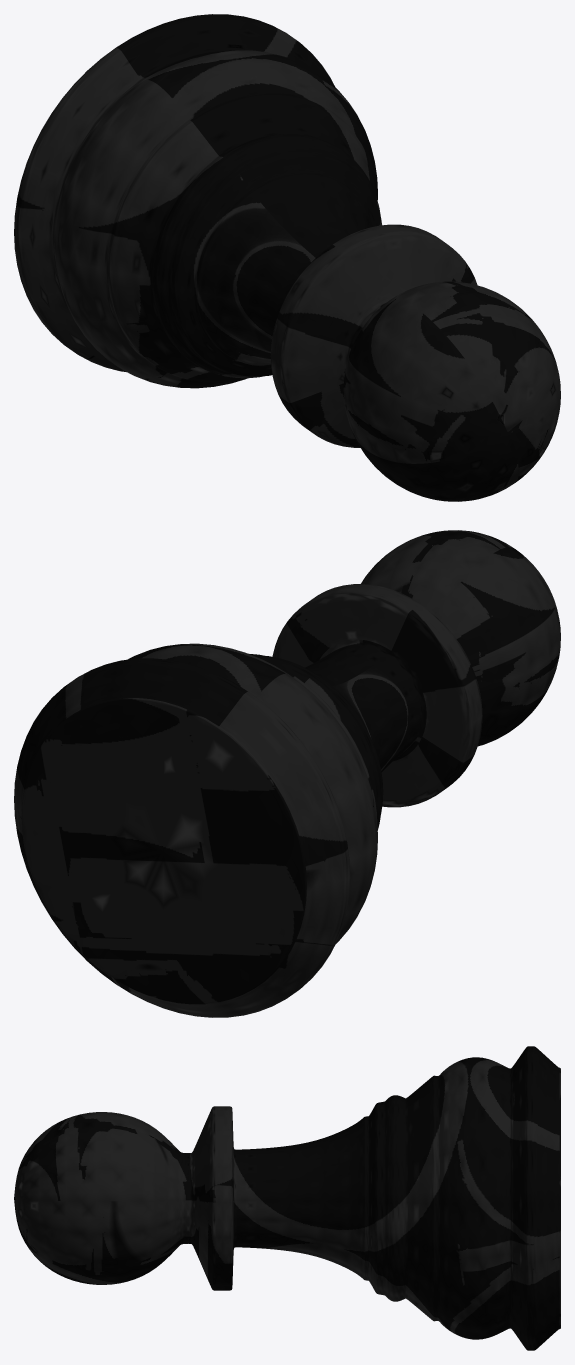
Rendered from beforeCheck_pawn.obj.
3 renders of one model, top to bottom at view 1: azimuth 30°, elevation 25°; view 2: azimuth 150°, elevation 25°; view 3: azimuth 270°, elevation 25°, orthographic. The views are drawn at different scales.
Bounding box in the file's own units: 4.56 × 4.56 × 8.17.
Materials: 1 (1 with a texture image).
